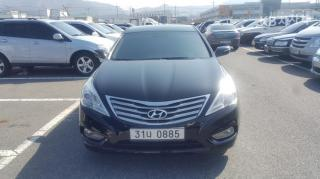0: (156, 129, 162, 138)
1: (141, 130, 146, 139)
3: (135, 129, 141, 138)
5: (174, 129, 180, 138)
8: (168, 129, 174, 139), (162, 130, 168, 139)
plate: (127, 125, 190, 144)
나: (146, 130, 153, 138)
